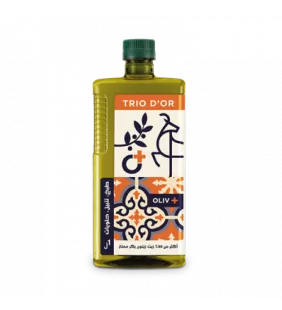TRIO D'OR: (84, 29, 196, 273)
